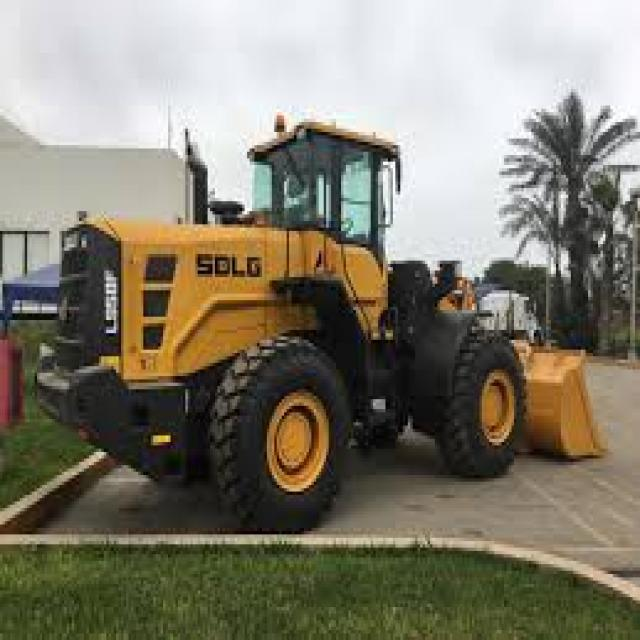buldozerpayloadergrader: (34, 107, 608, 532)
